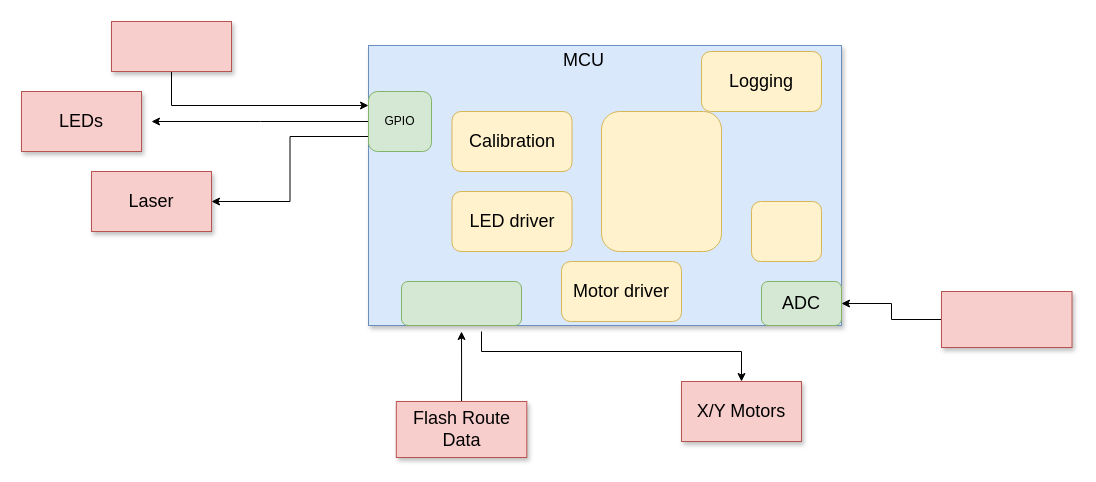
The diagram is 1096 pixels wide and 482 high, and some of its shapes have lost their labels. The centre of each missing label's shape, as x and y in pixels:
"Battery/ Charge Controller" belongs at pixel 1007 320.
"Buttons" belongs at pixel 172 47.
"ISR" belongs at pixel 786 231.
"SPI" belongs at pixel 461 303.
"X/Y Cartesian Interpreter" belongs at pixel 661 181.
